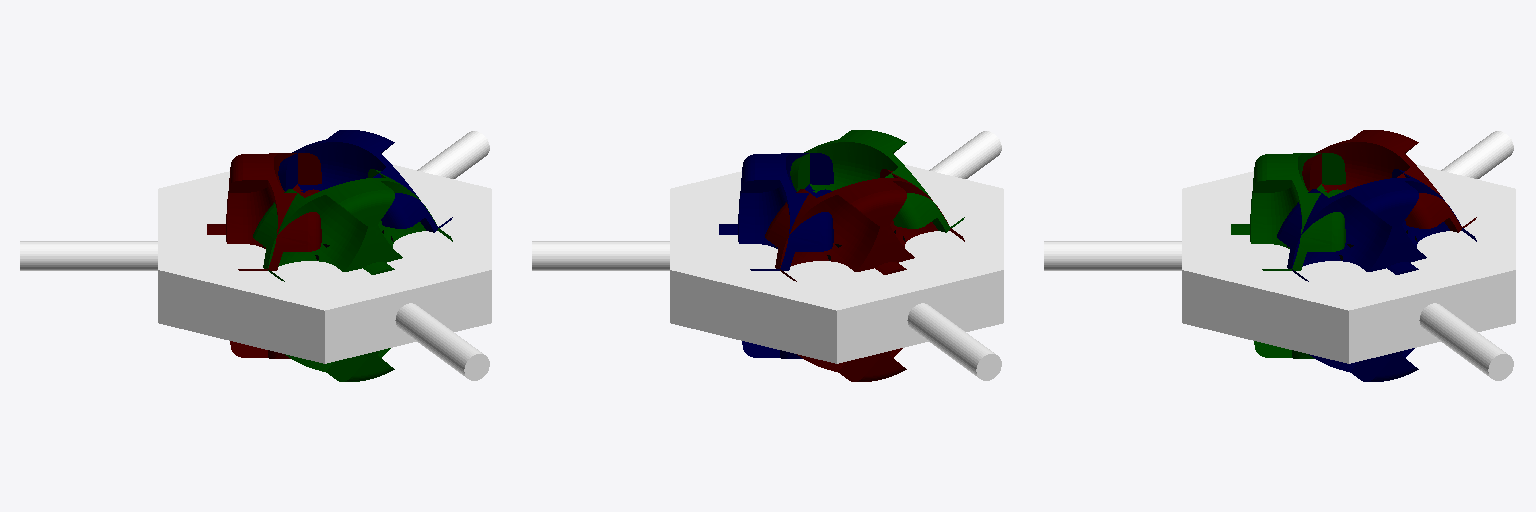
URDF robot description (omni):
<robot name="omni">

	<link name="origin_link"/>
	<link name="base_link">

		<inertial>

			<mass value="0.07862944645"/>
			<inertia
				ixx="0.00002035985530754"
				ixy="0"
				ixz="0"
				iyy="0.00002035985530754"
				iyz="0"
				izz="0.00003945961663220"/>

		</inertial>
		<visual>

			<geometry>

				<mesh filename="package://omni_pkg/mesh/base.stl"/>

			</geometry>
			<material name="base_material">

				<color rgba="1 1 1 1"/>

			</material>

		</visual>
		<collision>

			<geometry>

				<mesh filename="package://omni_pkg/mesh/base.stl"/>

			</geometry>

		</collision>

	</link>
	<joint
		name="origin_joint"
		type="fixed">

		<parent link="origin_link"/>
		<child link="base_link"/>
		<axis xyz="0 0 1"/>
		<origin xyz="0 0 0.01905"/>

	</joint>
	<link name="left_rim_link">

		<inertial>

			<origin xyz="0 0 -0.000343"/>
			<mass value="0.00835758"/>
			<inertia
				ixx="6.63684e-07"
				ixy="0"
				ixz="0"
				iyy="6.63684e-07"
				iyz="0"
				izz="9.40333e-07"/>

		</inertial>
		<visual>

			<geometry>

				<mesh filename="package://omni_pkg/mesh/rim.stl"/>

			</geometry>
			<material name="left_rim_material">

				<color rgba="0.3 0 0 1"/>

			</material>

		</visual>
		<collision>

			<geometry>

				<mesh filename="package://omni_pkg/mesh/rim.stl"/>

			</geometry>

		</collision>

	</link>
	<joint
		name="left_rim_joint"
		type="continuous">

		<parent link="base_link"/>
		<child link="left_rim_link"/>
		<axis xyz="0 0 1"/>
		<origin
			xyz="-0.03464101615 0.02 0"
			rpy="1.570796326794896 0 1.047197551196597"/>

	</joint>
	<link name="left_roller_e_link">

		<inertial>

			<mass value="0.00113845"/>
			<inertia
				ixx="2.53776e-08"
				ixy="0"
				ixz="0"
				iyy="2.53776e-08"
				iyz="0"
				izz="1.47666e-08"/>

		</inertial>
		<visual>

			<geometry>

				<mesh filename="package://omni_pkg/mesh/roller.stl"/>

			</geometry>
			<material name="left_roller_e_material">

				<color rgba="0.03 0.03 0.03 1"/>

			</material>

		</visual>
		<collision>

			<geometry>

				<mesh filename="package://omni_pkg/mesh/roller.stl"/>

			</geometry>

		</collision>

	</link>
	<joint
		name="left_roller_e_joint"
		type="continuous">

		<parent link="left_rim_link"/>
		<child link="left_roller_e_link"/>
		<axis xyz="0 0 1"/>
		<origin
			xyz="0.01355 0 0.0055"
			rpy="-1.570796326794896 0 0"/>

	</joint>
	<link name="left_roller_ne_link">

		<inertial>

			<mass value="0.00113845"/>
			<inertia
				ixx="2.53776e-08"
				ixy="0"
				ixz="0"
				iyy="2.53776e-08"
				iyz="0"
				izz="1.47666e-08"/>

		</inertial>
		<visual>

			<geometry>

				<mesh filename="package://omni_pkg/mesh/roller.stl"/>

			</geometry>
			<material name="left_roller_e_material">

				<color rgba="0.03 0.03 0.03 1"/>

			</material>

		</visual>
		<collision>

			<geometry>

				<mesh filename="package://omni_pkg/mesh/roller.stl"/>

			</geometry>

		</collision>

	</link>
	<joint
		name="left_roller_ne_joint"
		type="continuous">

		<parent link="left_rim_link"/>
		<child link="left_roller_ne_link"/>
		<axis xyz="0 0 1"/>
		<origin
			xyz="0.00958129689 0.00958129689 -0.0055"
			rpy="-1.570796326794896 0 0.7853981633974483"/>

	</joint>
	<link name="left_roller_n_link">

		<inertial>

			<mass value="0.00113845"/>
			<inertia
				ixx="2.53776e-08"
				ixy="0"
				ixz="0"
				iyy="2.53776e-08"
				iyz="0"
				izz="1.47666e-08"/>

		</inertial>
		<visual>

			<geometry>

				<mesh filename="package://omni_pkg/mesh/roller.stl"/>

			</geometry>
			<material name="left_roller_n_material">

				<color rgba="0.03 0.03 0.03 1"/>

			</material>

		</visual>
		<collision>

			<geometry>

				<mesh filename="package://omni_pkg/mesh/roller.stl"/>

			</geometry>

		</collision>

	</link>
	<joint
		name="left_roller_n_joint"
		type="continuous">

		<parent link="left_rim_link"/>
		<child link="left_roller_n_link"/>
		<axis xyz="0 0 1"/>
		<origin
			xyz="0 0.01355 0.0055"
			rpy="-1.570796326794896 0 1.570796326794896"/>

	</joint>
	<link name="left_roller_nw_link">

		<inertial>

			<mass value="0.00113845"/>
			<inertia
				ixx="2.53776e-08"
				ixy="0"
				ixz="0"
				iyy="2.53776e-08"
				iyz="0"
				izz="1.47666e-08"/>

		</inertial>
		<visual>

			<geometry>

				<mesh filename="package://omni_pkg/mesh/roller.stl"/>

			</geometry>
			<material name="left_roller_nw_material">

				<color rgba="0.03 0.03 0.03 1"/>

			</material>

		</visual>
		<collision>

			<geometry>

				<mesh filename="package://omni_pkg/mesh/roller.stl"/>

			</geometry>

		</collision>

	</link>
	<joint
		name="left_roller_nw_joint"
		type="continuous">

		<parent link="left_rim_link"/>
		<child link="left_roller_nw_link"/>
		<axis xyz="0 0 1"/>
		<origin
			xyz="-0.00958129689 0.00958129689 -0.0055"
			rpy="-1.570796326794896 0 2.356194490192345"/>

	</joint>
	<link name="left_roller_w_link">

		<inertial>

			<mass value="0.00113845"/>
			<inertia
				ixx="2.53776e-08"
				ixy="0"
				ixz="0"
				iyy="2.53776e-08"
				iyz="0"
				izz="1.47666e-08"/>

		</inertial>
		<visual>

			<geometry>

				<mesh filename="package://omni_pkg/mesh/roller.stl"/>

			</geometry>
			<material name="left_roller_w_material">

				<color rgba="0.03 0.03 0.03 1"/>

			</material>

		</visual>
		<collision>

			<geometry>

				<mesh filename="package://omni_pkg/mesh/roller.stl"/>

			</geometry>

		</collision>

	</link>
	<joint
		name="left_roller_w_joint"
		type="continuous">

		<parent link="left_rim_link"/>
		<child link="left_roller_w_link"/>
		<axis xyz="0 0 1"/>
		<origin
			xyz="-0.01355 0 0.0055"
			rpy="-1.570796326794896 0 3.141592653589793"/>

	</joint>
	<link name="left_roller_sw_link">

		<inertial>

			<mass value="0.00113845"/>
			<inertia
				ixx="2.53776e-08"
				ixy="0"
				ixz="0"
				iyy="2.53776e-08"
				iyz="0"
				izz="1.47666e-08"/>

		</inertial>
		<visual>

			<geometry>

				<mesh filename="package://omni_pkg/mesh/roller.stl"/>

			</geometry>
			<material name="left_roller_sw_material">

				<color rgba="0.03 0.03 0.03 1"/>

			</material>

		</visual>
		<collision>

			<geometry>

				<mesh filename="package://omni_pkg/mesh/roller.stl"/>

			</geometry>

		</collision>

	</link>
	<joint
		name="left_roller_sw_joint"
		type="continuous">

		<parent link="left_rim_link"/>
		<child link="left_roller_sw_link"/>
		<axis xyz="0 0 1"/>
		<origin
			xyz="-0.00958129689 -0.00958129689 -0.0055"
			rpy="-1.570796326794896 0 -2.356194490192345"/>

	</joint>
	<link name="left_roller_s_link">

		<inertial>

			<mass value="0.00113845"/>
			<inertia
				ixx="2.53776e-08"
				ixy="0"
				ixz="0"
				iyy="2.53776e-08"
				iyz="0"
				izz="1.47666e-08"/>

		</inertial>
		<visual>

			<geometry>

				<mesh filename="package://omni_pkg/mesh/roller.stl"/>

			</geometry>
			<material name="left_roller_s_material">

				<color rgba="0.03 0.03 0.03 1"/>

			</material>

		</visual>
		<collision>

			<geometry>

				<mesh filename="package://omni_pkg/mesh/roller.stl"/>

			</geometry>

		</collision>

	</link>
	<joint
		name="left_roller_s_joint"
		type="continuous">

		<parent link="left_rim_link"/>
		<child link="left_roller_s_link"/>
		<axis xyz="0 0 1"/>
		<origin
			xyz="0 -0.01355 0.0055"
			rpy="-1.570796326794896 0 -1.570796326794896"/>

	</joint>
	<link name="left_roller_se_link">

		<inertial>

			<mass value="0.00113845"/>
			<inertia
				ixx="2.53776e-08"
				ixy="0"
				ixz="0"
				iyy="2.53776e-08"
				iyz="0"
				izz="1.47666e-08"/>

		</inertial>
		<visual>

			<geometry>

				<mesh filename="package://omni_pkg/mesh/roller.stl"/>

			</geometry>
			<material name="left_roller_se_material">

				<color rgba="0.03 0.03 0.03 1"/>

			</material>

		</visual>
		<collision>

			<geometry>

				<mesh filename="package://omni_pkg/mesh/roller.stl"/>

			</geometry>

		</collision>

	</link>
	<joint
		name="left_roller_se_joint"
		type="continuous">

		<parent link="left_rim_link"/>
		<child link="left_roller_se_link"/>
		<axis xyz="0 0 1"/>
		<origin
			xyz="0.00958129689 -0.00958129689 -0.0055"
			rpy="-1.570796326794896 0 -0.7853981633974483"/>

	</joint>
	<link name="back_rim_link">

		<inertial>

			<origin xyz="0 0 -0.000343"/>
			<mass value="0.00835758"/>
			<inertia
				ixx="6.63684e-07"
				ixy="0"
				ixz="0"
				iyy="6.63684e-07"
				iyz="0"
				izz="9.40333e-07"/>

		</inertial>
		<visual>

			<geometry>

				<mesh filename="package://omni_pkg/mesh/rim.stl"/>

			</geometry>
			<material name="back_rim_material">

				<color rgba="0 0.3 0 1"/>

			</material>

		</visual>
		<collision>

			<geometry>

				<mesh filename="package://omni_pkg/mesh/rim.stl"/>

			</geometry>

		</collision>

	</link>
	<joint
		name="back_rim_joint"
		type="continuous">

		<parent link="base_link"/>
		<child link="back_rim_link"/>
		<axis xyz="0 0 1"/>
		<origin
			xyz="0 -0.04 0"
			rpy="1.570796326794896 0 3.141592653589793"/>

	</joint>
	<link name="back_roller_e_link">

		<inertial>

			<mass value="0.00113845"/>
			<inertia
				ixx="2.53776e-08"
				ixy="0"
				ixz="0"
				iyy="2.53776e-08"
				iyz="0"
				izz="1.47666e-08"/>

		</inertial>
		<visual>

			<geometry>

				<mesh filename="package://omni_pkg/mesh/roller.stl"/>

			</geometry>
			<material name="back_roller_e_material">

				<color rgba="0.03 0.03 0.03 1"/>

			</material>

		</visual>
		<collision>

			<geometry>

				<mesh filename="package://omni_pkg/mesh/roller.stl"/>

			</geometry>

		</collision>

	</link>
	<joint
		name="back_roller_e_joint"
		type="continuous">

		<parent link="back_rim_link"/>
		<child link="back_roller_e_link"/>
		<axis xyz="0 0 1"/>
		<origin
			xyz="0.01355 0 0.0055"
			rpy="-1.570796326794896 0 0"/>

	</joint>
	<link name="back_roller_ne_link">

		<inertial>

			<mass value="0.00113845"/>
			<inertia
				ixx="2.53776e-08"
				ixy="0"
				ixz="0"
				iyy="2.53776e-08"
				iyz="0"
				izz="1.47666e-08"/>

		</inertial>
		<visual>

			<geometry>

				<mesh filename="package://omni_pkg/mesh/roller.stl"/>

			</geometry>
			<material name="back_roller_e_material">

				<color rgba="0.03 0.03 0.03 1"/>

			</material>

		</visual>
		<collision>

			<geometry>

				<mesh filename="package://omni_pkg/mesh/roller.stl"/>

			</geometry>

		</collision>

	</link>
	<joint
		name="back_roller_ne_joint"
		type="continuous">

		<parent link="back_rim_link"/>
		<child link="back_roller_ne_link"/>
		<axis xyz="0 0 1"/>
		<origin
			xyz="0.00958129689 0.00958129689 -0.0055"
			rpy="-1.570796326794896 0 0.7853981633974483"/>

	</joint>
	<link name="back_roller_n_link">

		<inertial>

			<mass value="0.00113845"/>
			<inertia
				ixx="2.53776e-08"
				ixy="0"
				ixz="0"
				iyy="2.53776e-08"
				iyz="0"
				izz="1.47666e-08"/>

		</inertial>
		<visual>

			<geometry>

				<mesh filename="package://omni_pkg/mesh/roller.stl"/>

			</geometry>
			<material name="back_roller_n_material">

				<color rgba="0.03 0.03 0.03 1"/>

			</material>

		</visual>
		<collision>

			<geometry>

				<mesh filename="package://omni_pkg/mesh/roller.stl"/>

			</geometry>

		</collision>

	</link>
	<joint
		name="back_roller_n_joint"
		type="continuous">

		<parent link="back_rim_link"/>
		<child link="back_roller_n_link"/>
		<axis xyz="0 0 1"/>
		<origin
			xyz="0 0.01355 0.0055"
			rpy="-1.570796326794896 0 1.570796326794896"/>

	</joint>
	<link name="back_roller_nw_link">

		<inertial>

			<mass value="0.00113845"/>
			<inertia
				ixx="2.53776e-08"
				ixy="0"
				ixz="0"
				iyy="2.53776e-08"
				iyz="0"
				izz="1.47666e-08"/>

		</inertial>
		<visual>

			<geometry>

				<mesh filename="package://omni_pkg/mesh/roller.stl"/>

			</geometry>
			<material name="back_roller_nw_material">

				<color rgba="0.03 0.03 0.03 1"/>

			</material>

		</visual>
		<collision>

			<geometry>

				<mesh filename="package://omni_pkg/mesh/roller.stl"/>

			</geometry>

		</collision>

	</link>
	<joint
		name="back_roller_nw_joint"
		type="continuous">

		<parent link="back_rim_link"/>
		<child link="back_roller_nw_link"/>
		<axis xyz="0 0 1"/>
		<origin
			xyz="-0.00958129689 0.00958129689 -0.0055"
			rpy="-1.570796326794896 0 2.356194490192345"/>

	</joint>
	<link name="back_roller_w_link">

		<inertial>

			<mass value="0.00113845"/>
			<inertia
				ixx="2.53776e-08"
				ixy="0"
				ixz="0"
				iyy="2.53776e-08"
				iyz="0"
				izz="1.47666e-08"/>

		</inertial>
		<visual>

			<geometry>

				<mesh filename="package://omni_pkg/mesh/roller.stl"/>

			</geometry>
			<material name="back_roller_w_material">

				<color rgba="0.03 0.03 0.03 1"/>

			</material>

		</visual>
		<collision>

			<geometry>

				<mesh filename="package://omni_pkg/mesh/roller.stl"/>

			</geometry>

		</collision>

	</link>
	<joint
		name="back_roller_w_joint"
		type="continuous">

		<parent link="back_rim_link"/>
		<child link="back_roller_w_link"/>
		<axis xyz="0 0 1"/>
		<origin
			xyz="-0.01355 0 0.0055"
			rpy="-1.570796326794896 0 3.141592653589793"/>

	</joint>
	<link name="back_roller_sw_link">

		<inertial>

			<mass value="0.00113845"/>
			<inertia
				ixx="2.53776e-08"
				ixy="0"
				ixz="0"
				iyy="2.53776e-08"
				iyz="0"
				izz="1.47666e-08"/>

		</inertial>
		<visual>

			<geometry>

				<mesh filename="package://omni_pkg/mesh/roller.stl"/>

			</geometry>
			<material name="back_roller_sw_material">

				<color rgba="0.03 0.03 0.03 1"/>

			</material>

		</visual>
		<collision>

			<geometry>

				<mesh filename="package://omni_pkg/mesh/roller.stl"/>

			</geometry>

		</collision>

	</link>
	<joint
		name="back_roller_sw_joint"
		type="continuous">

		<parent link="back_rim_link"/>
		<child link="back_roller_sw_link"/>
		<axis xyz="0 0 1"/>
		<origin
			xyz="-0.00958129689 -0.00958129689 -0.0055"
			rpy="-1.570796326794896 0 -2.356194490192345"/>

	</joint>
	<link name="back_roller_s_link">

		<inertial>

			<mass value="0.00113845"/>
			<inertia
				ixx="2.53776e-08"
				ixy="0"
				ixz="0"
				iyy="2.53776e-08"
				iyz="0"
				izz="1.47666e-08"/>

		</inertial>
		<visual>

			<geometry>

				<mesh filename="package://omni_pkg/mesh/roller.stl"/>

			</geometry>
			<material name="back_roller_s_material">

				<color rgba="0.03 0.03 0.03 1"/>

			</material>

		</visual>
		<collision>

			<geometry>

				<mesh filename="package://omni_pkg/mesh/roller.stl"/>

			</geometry>

		</collision>

	</link>
	<joint
		name="back_roller_s_joint"
		type="continuous">

		<parent link="back_rim_link"/>
		<child link="back_roller_s_link"/>
		<axis xyz="0 0 1"/>
		<origin
			xyz="0 -0.01355 0.0055"
			rpy="-1.570796326794896 0 -1.570796326794896"/>

	</joint>
	<link name="back_roller_se_link">

		<inertial>

			<mass value="0.00113845"/>
			<inertia
				ixx="2.53776e-08"
				ixy="0"
				ixz="0"
				iyy="2.53776e-08"
				iyz="0"
				izz="1.47666e-08"/>

		</inertial>
		<visual>

			<geometry>

				<mesh filename="package://omni_pkg/mesh/roller.stl"/>

			</geometry>
			<material name="back_roller_se_material">

				<color rgba="0.03 0.03 0.03 1"/>

			</material>

		</visual>
		<collision>

			<geometry>

				<mesh filename="package://omni_pkg/mesh/roller.stl"/>

			</geometry>

		</collision>

	</link>
	<joint
		name="back_roller_se_joint"
		type="continuous">

		<parent link="back_rim_link"/>
		<child link="back_roller_se_link"/>
		<axis xyz="0 0 1"/>
		<origin
			xyz="0.00958129689 -0.00958129689 -0.0055"
			rpy="-1.570796326794896 0 -0.7853981633974483"/>

	</joint>
	<link name="right_rim_link">

		<inertial>

			<origin xyz="0 0 -0.000343"/>
			<mass value="0.00835758"/>
			<inertia
				ixx="6.63684e-07"
				ixy="0"
				ixz="0"
				iyy="6.63684e-07"
				iyz="0"
				izz="9.40333e-07"/>

		</inertial>
		<visual>

			<geometry>

				<mesh filename="package://omni_pkg/mesh/rim.stl"/>

			</geometry>
			<material name="right_rim_material">

				<color rgba="0 0 0.3 1"/>

			</material>

		</visual>
		<collision>

			<geometry>

				<mesh filename="package://omni_pkg/mesh/rim.stl"/>

			</geometry>

		</collision>

	</link>
	<joint
		name="right_rim_joint"
		type="continuous">

		<parent link="base_link"/>
		<child link="right_rim_link"/>
		<axis xyz="0 0 1"/>
		<origin
			xyz="0.03464101615 0.02 0"
			rpy="1.570796326794896 0 -1.047197551196597"/>

	</joint>
	<link name="right_roller_e_link">

		<inertial>

			<mass value="0.00113845"/>
			<inertia
				ixx="2.53776e-08"
				ixy="0"
				ixz="0"
				iyy="2.53776e-08"
				iyz="0"
				izz="1.47666e-08"/>

		</inertial>
		<visual>

			<geometry>

				<mesh filename="package://omni_pkg/mesh/roller.stl"/>

			</geometry>
			<material name="right_roller_e_material">

				<color rgba="0.03 0.03 0.03 1"/>

			</material>

		</visual>
		<collision>

			<geometry>

				<mesh filename="package://omni_pkg/mesh/roller.stl"/>

			</geometry>

		</collision>

	</link>
	<joint
		name="right_roller_e_joint"
		type="continuous">

		<parent link="right_rim_link"/>
		<child link="right_roller_e_link"/>
		<axis xyz="0 0 1"/>
		<origin
			xyz="0.01355 0 0.0055"
			rpy="-1.570796326794896 0 0"/>

	</joint>
	<link name="right_roller_ne_link">

		<inertial>

			<mass value="0.00113845"/>
			<inertia
				ixx="2.53776e-08"
				ixy="0"
				ixz="0"
				iyy="2.53776e-08"
				iyz="0"
				izz="1.47666e-08"/>

		</inertial>
		<visual>

			<geometry>

				<mesh filename="package://omni_pkg/mesh/roller.stl"/>

			</geometry>
			<material name="right_roller_e_material">

				<color rgba="0.03 0.03 0.03 1"/>

			</material>

		</visual>
		<collision>

			<geometry>

				<mesh filename="package://omni_pkg/mesh/roller.stl"/>

			</geometry>

		</collision>

	</link>
	<joint
		name="right_roller_ne_joint"
		type="continuous">

		<parent link="right_rim_link"/>
		<child link="right_roller_ne_link"/>
		<axis xyz="0 0 1"/>
		<origin
			xyz="0.00958129689 0.00958129689 -0.0055"
			rpy="-1.570796326794896 0 0.7853981633974483"/>

	</joint>
	<link name="right_roller_n_link">

		<inertial>

			<mass value="0.00113845"/>
			<inertia
				ixx="2.53776e-08"
				ixy="0"
				ixz="0"
				iyy="2.53776e-08"
				iyz="0"
				izz="1.47666e-08"/>

		</inertial>
		<visual>

			<geometry>

				<mesh filename="package://omni_pkg/mesh/roller.stl"/>

			</geometry>
			<material name="right_roller_n_material">

				<color rgba="0.03 0.03 0.03 1"/>

			</material>

		</visual>
		<collision>

			<geometry>

				<mesh filename="package://omni_pkg/mesh/roller.stl"/>

			</geometry>

		</collision>

	</link>
	<joint
		name="right_roller_n_joint"
		type="continuous">

		<parent link="right_rim_link"/>
		<child link="right_roller_n_link"/>
		<axis xyz="0 0 1"/>
		<origin
			xyz="0 0.01355 0.0055"
			rpy="-1.570796326794896 0 1.570796326794896"/>

	</joint>
	<link name="right_roller_nw_link">

		<inertial>

			<mass value="0.00113845"/>
			<inertia
				ixx="2.53776e-08"
				ixy="0"
				ixz="0"
				iyy="2.53776e-08"
				iyz="0"
				izz="1.47666e-08"/>

		</inertial>
		<visual>

			<geometry>

				<mesh filename="package://omni_pkg/mesh/roller.stl"/>

			</geometry>
			<material name="right_roller_nw_material">

				<color rgba="0.03 0.03 0.03 1"/>

			</material>

		</visual>
		<collision>

			<geometry>

				<mesh filename="package://omni_pkg/mesh/roller.stl"/>

			</geometry>

		</collision>

	</link>
	<joint
		name="right_roller_nw_joint"
		type="continuous">

		<parent link="right_rim_link"/>
		<child link="right_roller_nw_link"/>
		<axis xyz="0 0 1"/>
		<origin
			xyz="-0.00958129689 0.00958129689 -0.0055"
			rpy="-1.570796326794896 0 2.356194490192345"/>

	</joint>
	<link name="right_roller_w_link">

		<inertial>

			<mass value="0.00113845"/>
			<inertia
				ixx="2.53776e-08"
				ixy="0"
				ixz="0"
				iyy="2.53776e-08"
				iyz="0"
				izz="1.47666e-08"/>

		</inertial>
		<visual>

			<geometry>

				<mesh filename="package://omni_pkg/mesh/roller.stl"/>

			</geometry>
			<material name="right_roller_w_material">

				<color rgba="0.03 0.03 0.03 1"/>

			</material>

		</visual>
		<collision>

			<geometry>

				<mesh filename="package://omni_pkg/mesh/roller.stl"/>

			</geometry>

		</collision>

	</link>
	<joint
		name="right_roller_w_joint"
		type="continuous">

		<parent link="right_rim_link"/>
		<child link="right_roller_w_link"/>
		<axis xyz="0 0 1"/>
		<origin
			xyz="-0.01355 0 0.0055"
			rpy="-1.570796326794896 0 3.141592653589793"/>

	</joint>
	<link name="right_roller_sw_link">

		<inertial>

			<mass value="0.00113845"/>
			<inertia
				ixx="2.53776e-08"
				ixy="0"
				ixz="0"
				iyy="2.53776e-08"
				iyz="0"
				izz="1.47666e-08"/>

		</inertial>
		<visual>

			<geometry>

				<mesh filename="package://omni_pkg/mesh/roller.stl"/>

			</geometry>
			<material name="right_roller_sw_material">

				<color rgba="0.03 0.03 0.03 1"/>

			</material>

		</visual>
		<collision>

			<geometry>

				<mesh filename="package://omni_pkg/mesh/roller.stl"/>

			</geometry>

		</collision>

	</link>
	<joint
		name="right_roller_sw_joint"
		type="continuous">

		<parent link="right_rim_link"/>
		<child link="right_roller_sw_link"/>
		<axis xyz="0 0 1"/>
		<origin
			xyz="-0.00958129689 -0.00958129689 -0.0055"
			rpy="-1.570796326794896 0 -2.356194490192345"/>

	</joint>
	<link name="right_roller_s_link">

		<inertial>

			<mass value="0.00113845"/>
			<inertia
				ixx="2.53776e-08"
				ixy="0"
				ixz="0"
				iyy="2.53776e-08"
				iyz="0"
				izz="1.47666e-08"/>

		</inertial>
		<visual>

			<geometry>

				<mesh filename="package://omni_pkg/mesh/roller.stl"/>

			</geometry>
			<material name="right_roller_s_material">

				<color rgba="0.03 0.03 0.03 1"/>

			</material>

		</visual>
		<collision>

			<geometry>

				<mesh filename="package://omni_pkg/mesh/roller.stl"/>

			</geometry>

		</collision>

	</link>
	<joint
		name="right_roller_s_joint"
		type="continuous">

		<parent link="right_rim_link"/>
		<child link="right_roller_s_link"/>
		<axis xyz="0 0 1"/>
		<origin
			xyz="0 -0.01355 0.0055"
			rpy="-1.570796326794896 0 -1.570796326794896"/>

	</joint>
	<link name="right_roller_se_link">

		<inertial>

			<mass value="0.00113845"/>
			<inertia
				ixx="2.53776e-08"
				ixy="0"
				ixz="0"
				iyy="2.53776e-08"
				iyz="0"
				izz="1.47666e-08"/>

		</inertial>
		<visual>

			<geometry>

				<mesh filename="package://omni_pkg/mesh/roller.stl"/>

			</geometry>
			<material name="right_roller_se_material">

				<color rgba="0.03 0.03 0.03 1"/>

			</material>

		</visual>
		<collision>

			<geometry>

				<mesh filename="package://omni_pkg/mesh/roller.stl"/>

			</geometry>

		</collision>

	</link>
	<joint
		name="right_roller_se_joint"
		type="continuous">

		<parent link="right_rim_link"/>
		<child link="right_roller_se_link"/>
		<axis xyz="0 0 1"/>
		<origin
			xyz="0.00958129689 -0.00958129689 -0.0055"
			rpy="-1.570796326794896 0 -0.7853981633974483"/>

	</joint>
	<transmission name="left_transmission">

		<type>transmission_interface/SimpleTransmission</type>
		<joint name="left_rim_joint">

			<hardwareInterface>EffortJointInterface</hardwareInterface>

		</joint>
		<actuator name="left_motor">

			<hardwareInterface>EffortJointInterface</hardwareInterface>
			<mechanicalReduction>1</mechanicalReduction>

		</actuator>

	</transmission>
	<transmission name="back_transmission">

		<type>transmission_interface/SimpleTransmission</type>
		<joint name="back_rim_joint">

			<hardwareInterface>EffortJointInterface</hardwareInterface>

		</joint>
		<actuator name="back_motor">

			<hardwareInterface>EffortJointInterface</hardwareInterface>
			<mechanicalReduction>1</mechanicalReduction>

		</actuator>

	</transmission>
	<transmission name="right_transmission">

		<type>transmission_interface/SimpleTransmission</type>
		<joint name="right_rim_joint">

			<hardwareInterface>EffortJointInterface</hardwareInterface>

		</joint>
		<actuator name="rim_motor">

			<hardwareInterface>EffortJointInterface</hardwareInterface>
			<mechanicalReduction>1</mechanicalReduction>

		</actuator>

	</transmission>
	<gazebo>

		<plugin name="gazebo_ros_control" filename="libgazebo_ros_control.so">

			<robotNamespace>/omni</robotNamespace>

		</plugin>

	</gazebo>

</robot>

--- Facts derived from the render (not from the file) ---
The picture shows the robot from 3 angles, left to right: view 1: azimuth 30°, elevation 25°; view 2: azimuth 150°, elevation 25°; view 3: azimuth 270°, elevation 25°; orthographic projection.
Robot: omni — 29 links, 28 joints (27 continuous, 1 fixed); root link origin_link; default pose: all joints at 0.
Links seen in each view (by area): view 1: base_link, back_rim_link, left_rim_link, right_rim_link; view 2: base_link, left_rim_link, right_rim_link, back_rim_link; view 3: base_link, right_rim_link, back_rim_link, left_rim_link.
Link boxes in pixels (x1=…): base_link: x1=20, y1=131, x2=491, y2=380; back_rim_link: x1=253, y1=169, x2=452, y2=381; left_rim_link: x1=207, y1=153, x2=321, y2=358; right_rim_link: x1=278, y1=130, x2=452, y2=232; base_link: x1=532, y1=131, x2=1003, y2=380; left_rim_link: x1=765, y1=169, x2=964, y2=381; right_rim_link: x1=719, y1=153, x2=833, y2=358; back_rim_link: x1=790, y1=130, x2=964, y2=232; base_link: x1=1044, y1=131, x2=1515, y2=380; right_rim_link: x1=1277, y1=169, x2=1476, y2=381; back_rim_link: x1=1231, y1=153, x2=1345, y2=358; left_rim_link: x1=1302, y1=130, x2=1476, y2=232.
Size in the robot's own frame: 0.4407 by 0.383 by 0.1676 metres.
28 mesh visuals loaded from 3 distinct referenced files (3 binary STL).